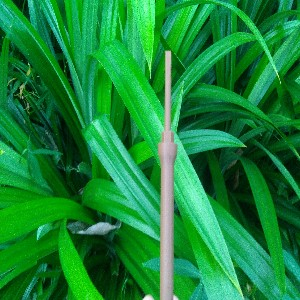obeng: (157, 49, 179, 300)
